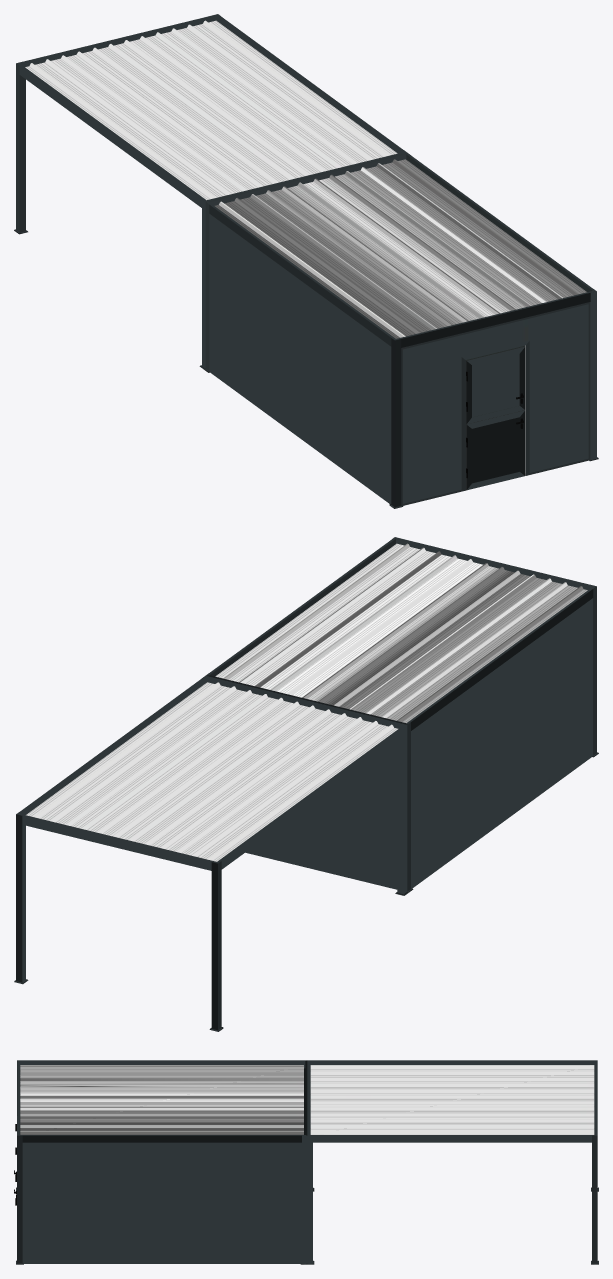
The model's file is 13444_carport5x3abri5x3.fbx.
The picture shows the model from 3 angles, top to bottom: view 1: azimuth 30°, elevation 25°; view 2: azimuth 150°, elevation 25°; view 3: azimuth 270°, elevation 25°; orthographic projection. The views are drawn at different scales.
Parts seen in each view (by area): view 1: priximbattable_net_box_a_cheval_13444_module_carport_box_che, folhabaixo, folhacima, porta; view 2: priximbattable_net_box_a_cheval_13444_module_carport_box_che; view 3: priximbattable_net_box_a_cheval_13444_module_carport_box_che.
Part boxes in pixels (x1,y1,x2,y2): priximbattable_net_box_a_cheval_13444_module_carport_box_che: (14,14,598,508); folhabaixo: (466,410,525,490); folhacima: (466,346,525,424); porta: (461,340,529,491); priximbattable_net_box_a_cheval_13444_module_carport_box_che: (14,537,598,1031); priximbattable_net_box_a_cheval_13444_module_carport_box_che: (16,1060,598,1264).
Size of the model in its own units: 324 by 254 by 1048.
1 material, 1 textured.
